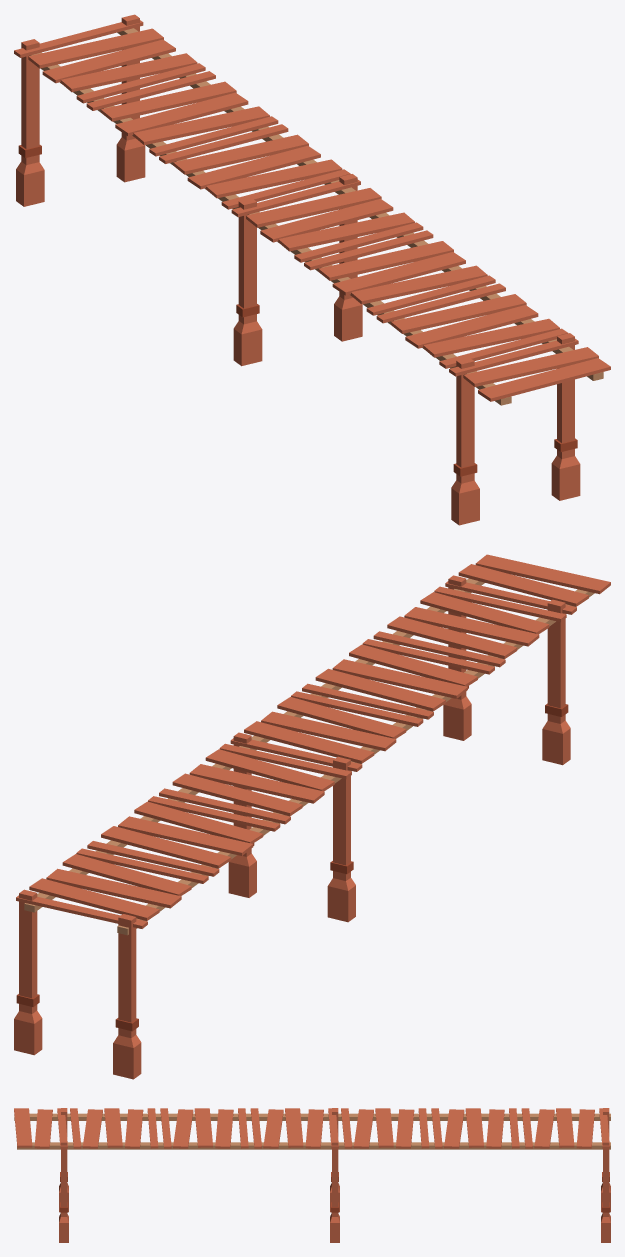
Rendered from bridge.fbx.
3 renders of one model, top to bottom at view 1: azimuth 30°, elevation 25°; view 2: azimuth 150°, elevation 25°; view 3: azimuth 270°, elevation 25°, orthographic. The views are drawn at different scales.
Parts seen in each view (by area): view 1: mergedBlocks; view 2: mergedBlocks; view 3: mergedBlocks.
Part boxes in pixels (<box>): mergedBlocks: <box>14,14,610,525</box>; mergedBlocks: <box>14,554,610,1079</box>; mergedBlocks: <box>14,1108,610,1242</box>.
Size of the model in its own units: 10.08 by 12.1 by 66.09.
